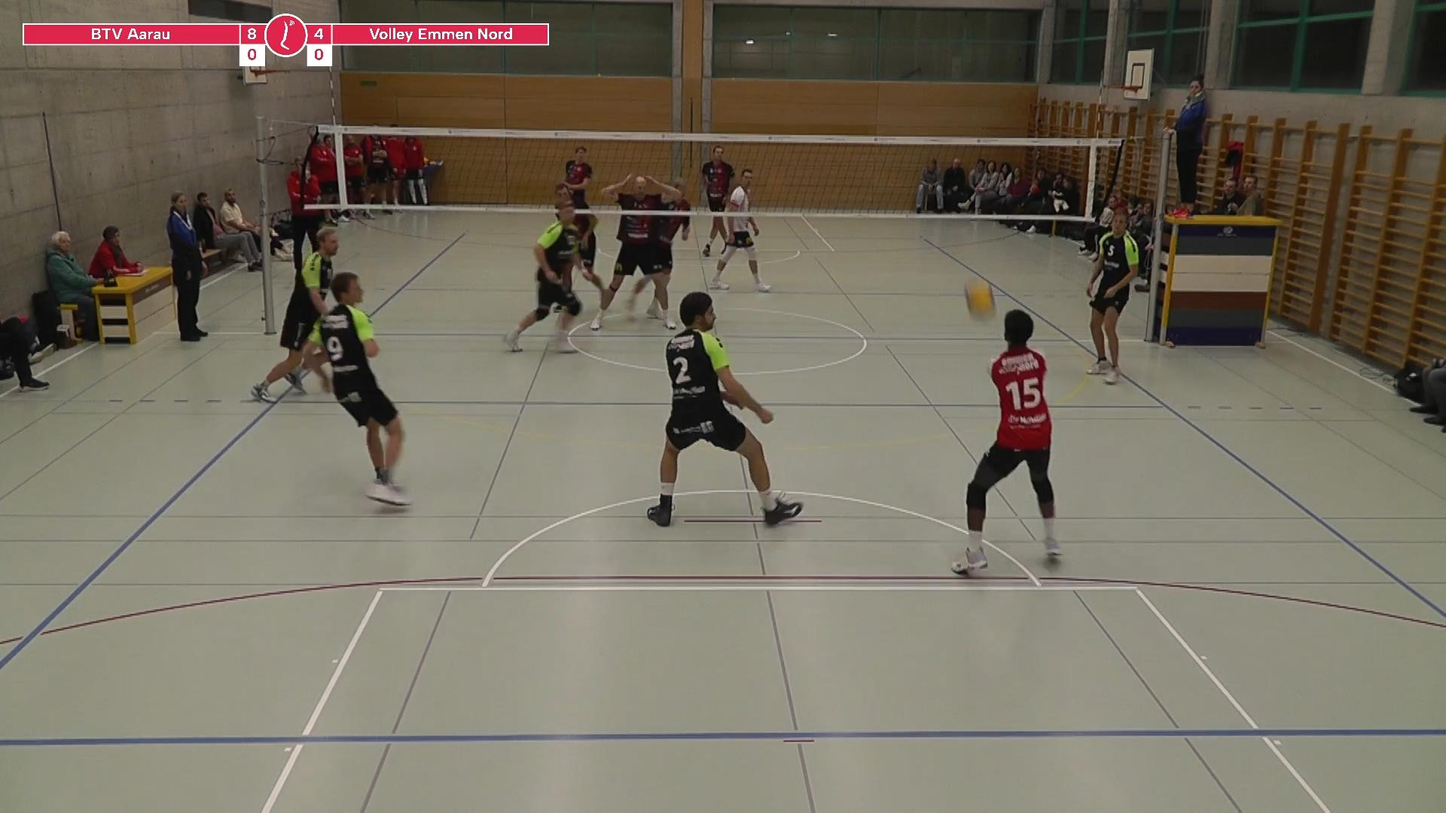ricezione: (946, 301, 1082, 574)
